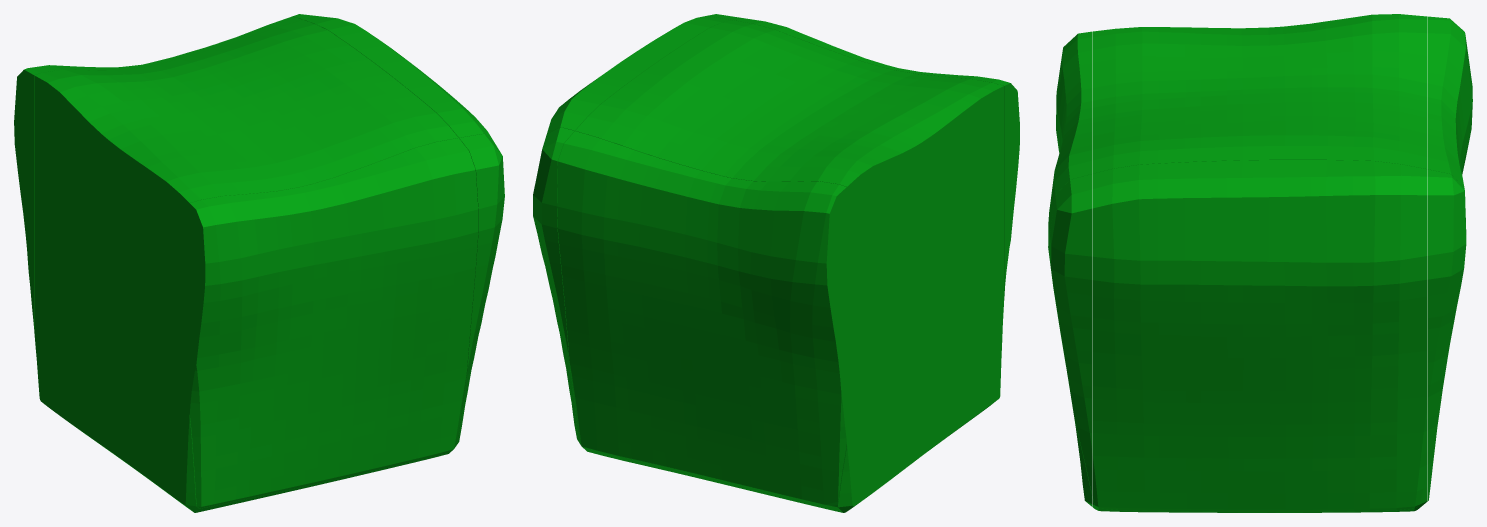
File: 4by10beveledsubdivided.033.fbx
3 views of the same model, side by side, from view 1: azimuth 30°, elevation 25°; view 2: azimuth 150°, elevation 25°; view 3: azimuth 270°, elevation 25° (orthographic). The views are drawn at different scales.
Visible parts, largest first — view 1: 4by10beveledsubdivided.033; view 2: 4by10beveledsubdivided.033; view 3: 4by10beveledsubdivided.033.
Boxes of the visible parts, x1=… form: 4by10beveledsubdivided.033: x1=14, y1=14, x2=504, y2=512; 4by10beveledsubdivided.033: x1=533, y1=14, x2=1019, y2=512; 4by10beveledsubdivided.033: x1=1048, y1=14, x2=1472, y2=512.
Bounding box in the file's own units: 238 × 236 × 253.
